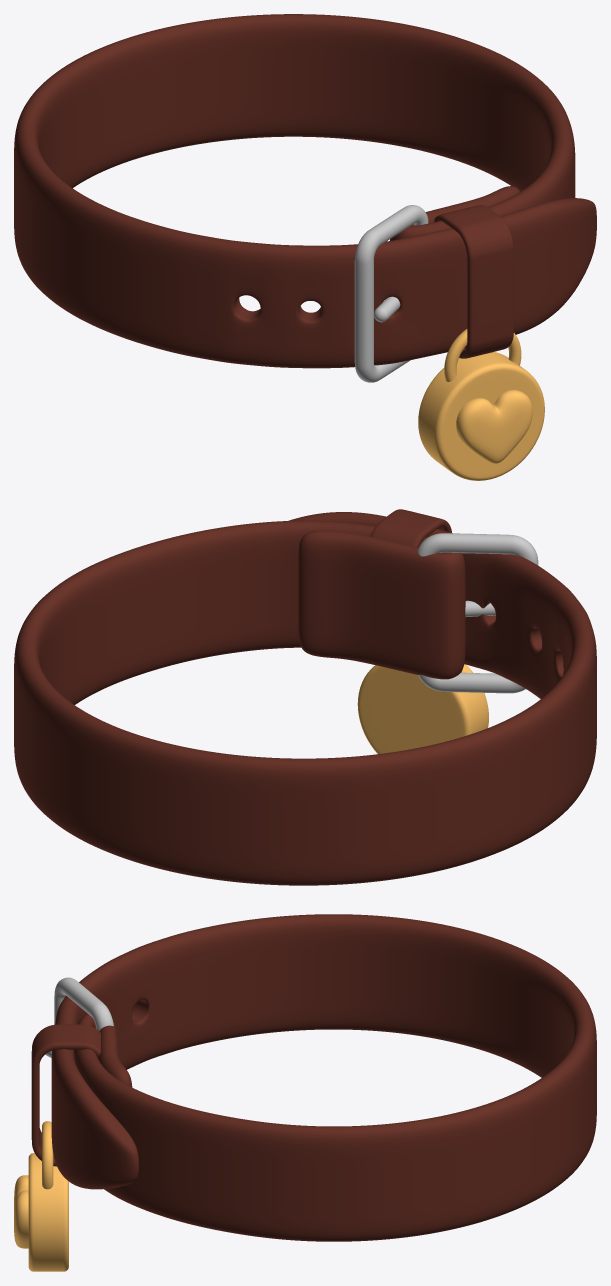
The model's file is Pet Belt.fbx.
3 renders of one model, top to bottom at view 1: azimuth 30°, elevation 25°; view 2: azimuth 150°, elevation 25°; view 3: azimuth 270°, elevation 25°, orthographic. The views are drawn at different scales.
Visible parts, largest first — view 1: Belt, Hanger, Cut to size, Ring, Love, Circle; view 2: Belt, Hanger, Ring, Cut to size; view 3: Belt, Hanger, Cut to size, Ring, Love, Circle.
Boxes of the visible parts, left/top/right/bottom form: Belt: left=14, top=14, right=596, bottom=368; Hanger: left=418, top=352, right=544, bottom=480; Cut to size: left=434, top=205, right=513, bottom=358; Ring: left=354, top=205, right=428, bottom=382; Love: left=456, top=390, right=532, bottom=463; Circle: left=444, top=329, right=521, bottom=381; Belt: left=14, top=512, right=596, bottom=885; Hanger: left=357, top=664, right=488, bottom=754; Ring: left=418, top=533, right=538, bottom=693; Cut to size: left=370, top=509, right=451, bottom=547; Belt: left=51, top=914, right=596, bottom=1241; Hanger: left=28, top=1153, right=68, bottom=1271; Cut to size: left=31, top=1024, right=100, bottom=1166; Ring: left=54, top=977, right=113, bottom=1031; Love: left=14, top=1175, right=28, bottom=1248; Circle: left=42, top=1121, right=53, bottom=1189.
Size of the model in its own units: 187 by 95.05 by 207.
